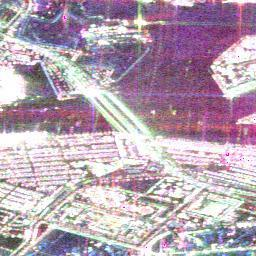Ship: (132, 13, 149, 29)
